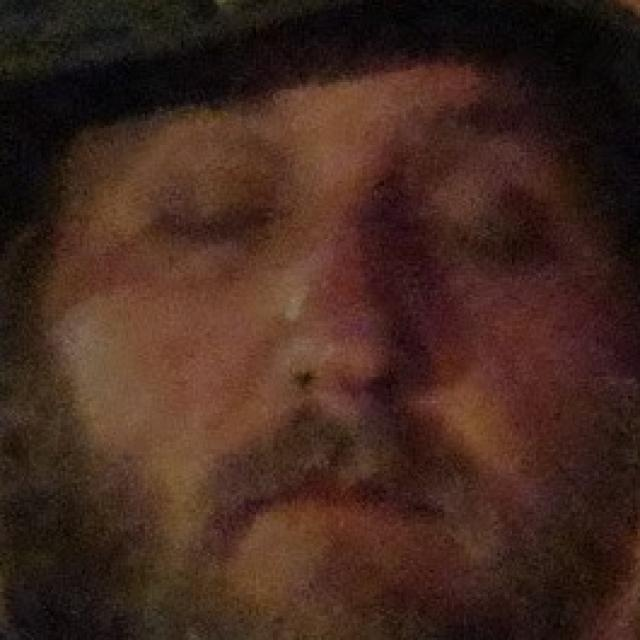Eyeclosed: (449, 212, 555, 275), (160, 197, 280, 252)
